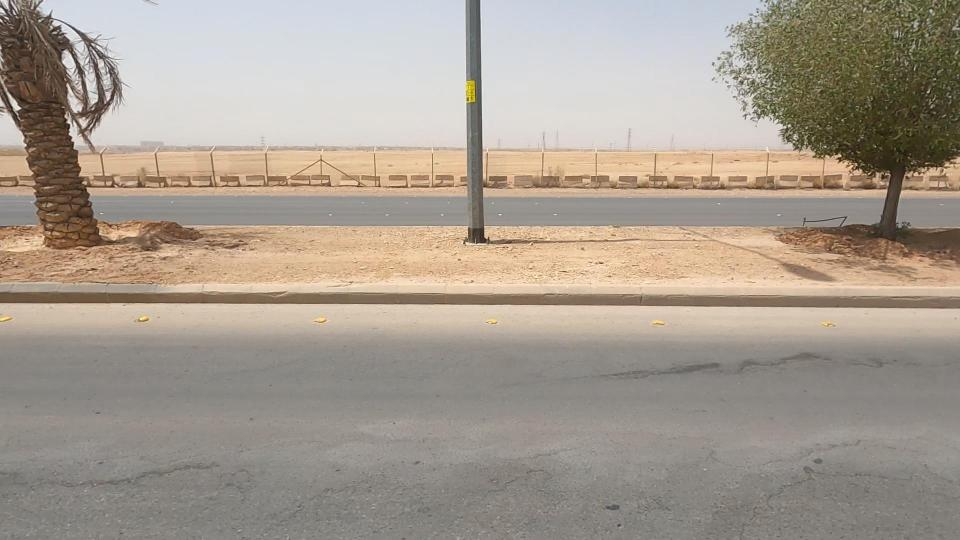CLUTTER_SIDEWALK: (35, 176, 477, 326), (417, 186, 909, 317)
